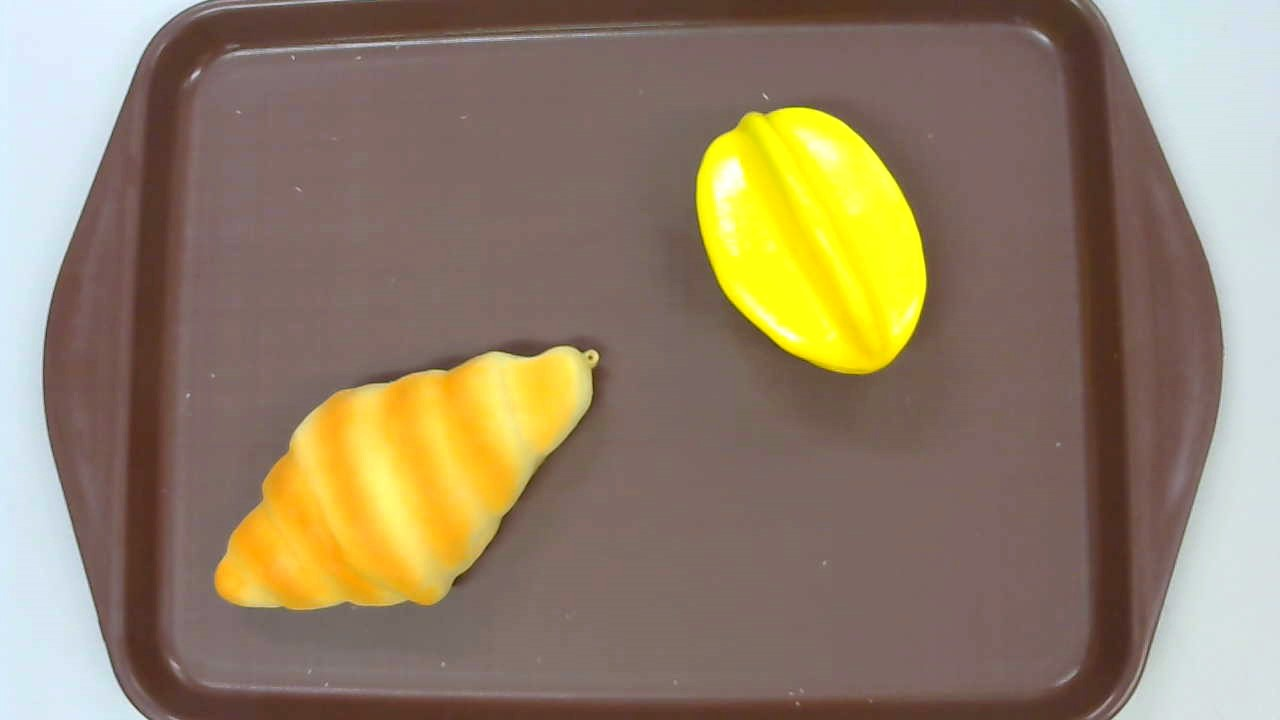croissant: (214, 344, 600, 611)
star fruit: (696, 105, 926, 376)
